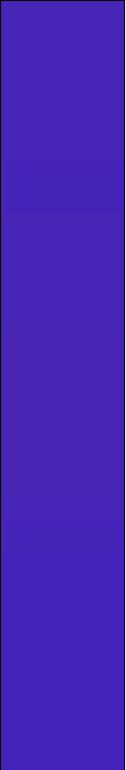safe: (4, 9, 119, 761)
